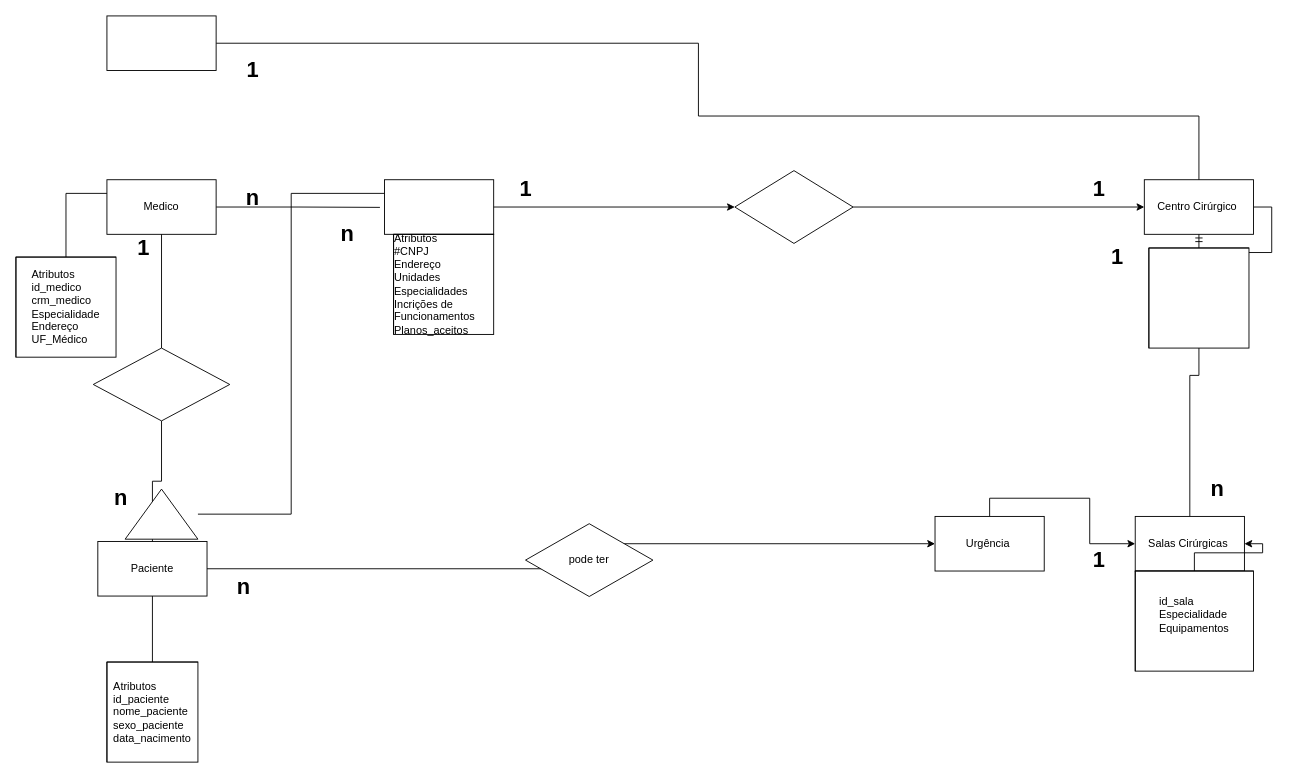
Image size: 1295x778. Some labels were removed from this diagram. Here are the shapes that lost their labels. From the top down, the centre of each, then its label:
At [161,43]: "Controle do Centro Cirúrgico".
At [439,206]: "Hospital".
At [793,206]: "Encaminha/Tem".
At [1198,297]: "Id_centro reponsavel salas".
At [161,384]: "Consulta".
